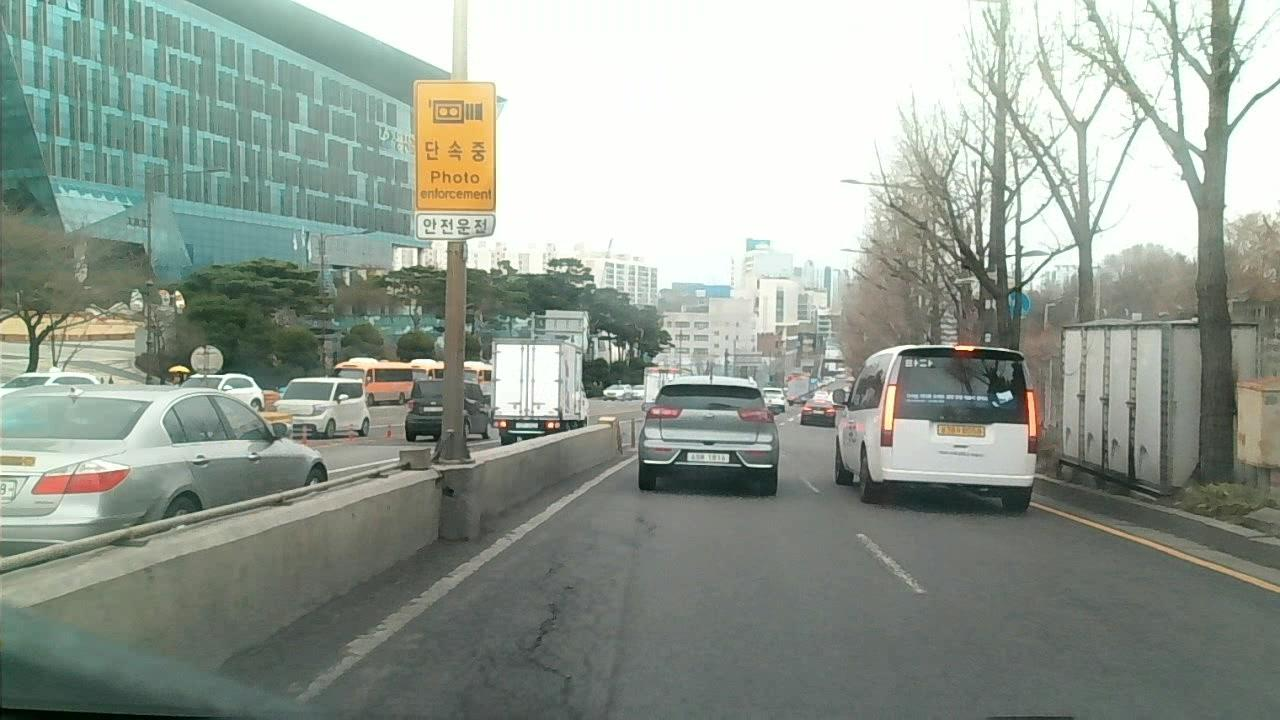vcrack: (525, 565, 590, 718)
